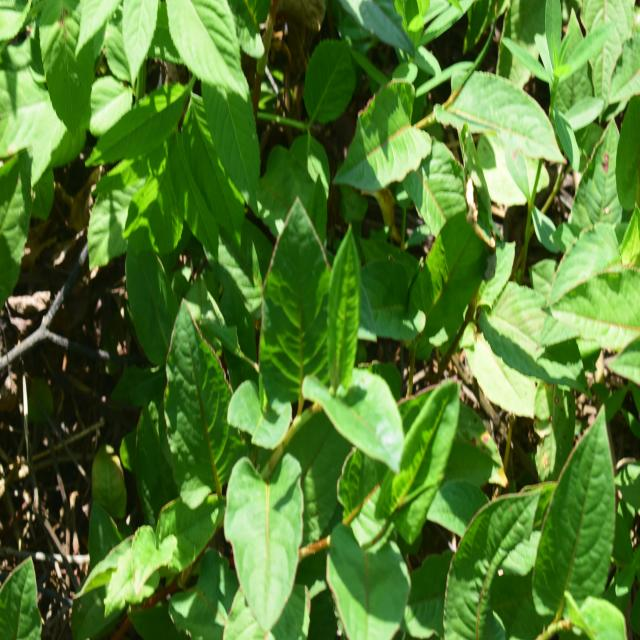Chinese_knotweed: (176, 257, 440, 625)
